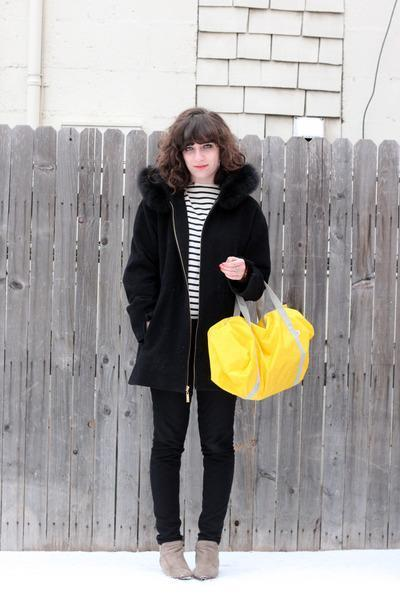bag: (207, 277, 313, 400)
jacket: (123, 161, 270, 401)
pants: (148, 379, 236, 544)
shirt: (185, 174, 219, 271)
shoe: (144, 524, 232, 580)
